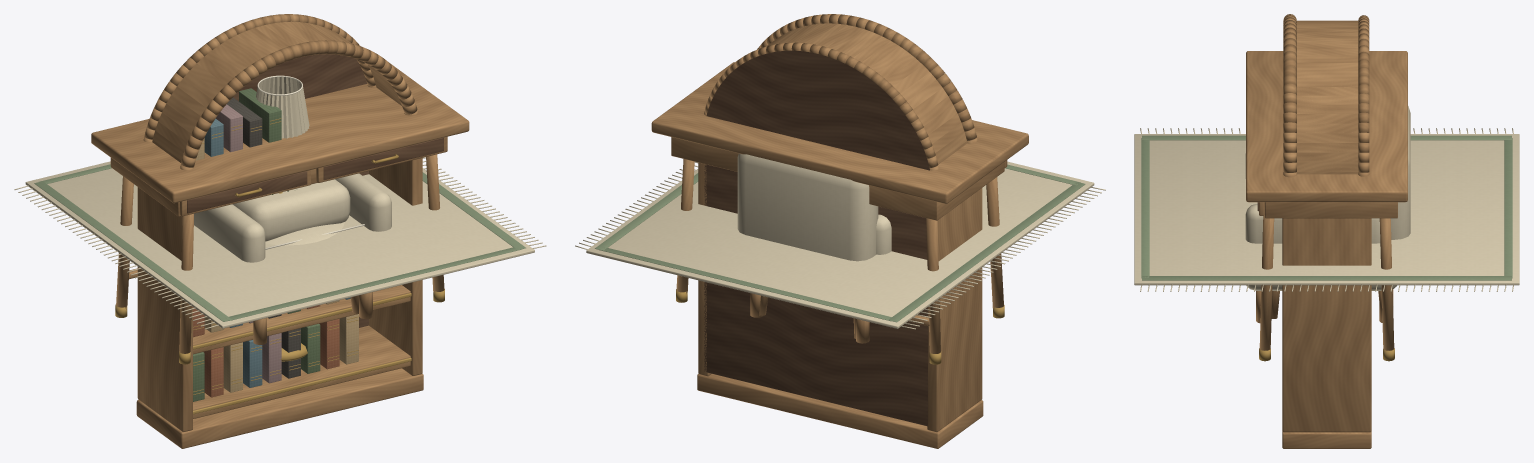
File: tidy-study.glb
3 renders of one model, left to right at view 1: azimuth 30°, elevation 25°; view 2: azimuth 150°, elevation 25°; view 3: azimuth 270°, elevation 25°, orthographic. The views are drawn at different scales.
Parts seen in each view (by area): view 1: studybookcase_mesh, studyrug_mesh, studydesk_mesh, studyarmchair_mesh, studystool_mesh, studyfloorlamp_mesh; view 2: studybookcase_mesh, studyrug_mesh, studydesk_mesh, studyarmchair_mesh; view 3: studyrug_mesh, studybookcase_mesh, studydesk_mesh, studyarmchair_mesh.
Part boxes in pixels (left/top/right/bottom): studybookcase_mesh: left=136, top=14, right=423, bottom=448; studyrug_mesh: left=14, top=157, right=546, bottom=329; studydesk_mesh: left=91, top=63, right=469, bottom=364; studyarmchair_mesh: left=194, top=173, right=391, bottom=344; studystool_mesh: left=233, top=179, right=350, bottom=241; studyfloorlamp_mesh: left=256, top=75, right=309, bottom=361; studybookcase_mesh: left=697, top=14, right=983, bottom=448; studyrug_mesh: left=575, top=161, right=1105, bottom=329; studydesk_mesh: left=651, top=62, right=1028, bottom=364; studyarmchair_mesh: left=737, top=153, right=891, bottom=343; studyrug_mesh: left=1134, top=128, right=1519, bottom=291; studybookcase_mesh: left=1282, top=14, right=1371, bottom=448; studydesk_mesh: left=1246, top=51, right=1407, bottom=361; studyarmchair_mesh: left=1245, top=106, right=1410, bottom=323.
Size of the model in its own units: 0.69 by 0.72 by 0.69.
17 materials, 17 textured.
